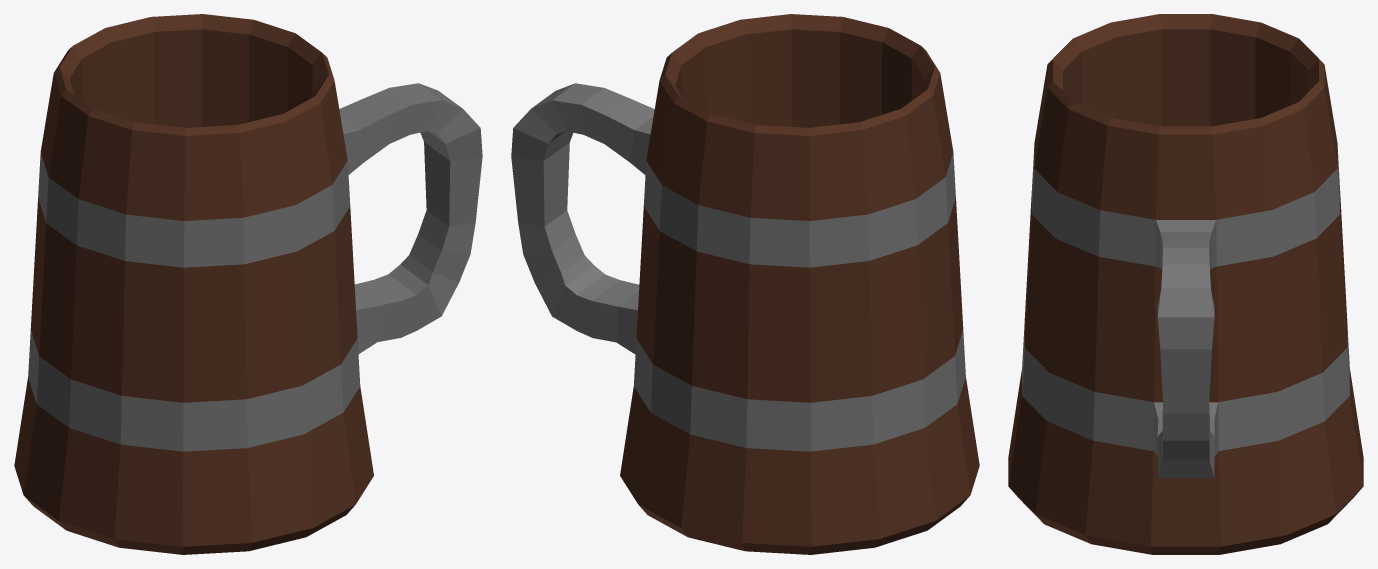
The model's file is LowPoly_BeerMug_THIN.fbx.
3 renders of one model, left to right at view 1: azimuth 30°, elevation 25°; view 2: azimuth 150°, elevation 25°; view 3: azimuth 270°, elevation 25°, orthographic.
Visible parts, largest first — view 1: Mug; view 2: Mug; view 3: Mug.
Part boxes in pixels (bbox=[...]): Mug: bbox=[14, 14, 482, 554]; Mug: bbox=[511, 14, 979, 554]; Mug: bbox=[1008, 14, 1363, 554].
Size of the model in its own units: 19.88 by 18.27 by 14.2.
